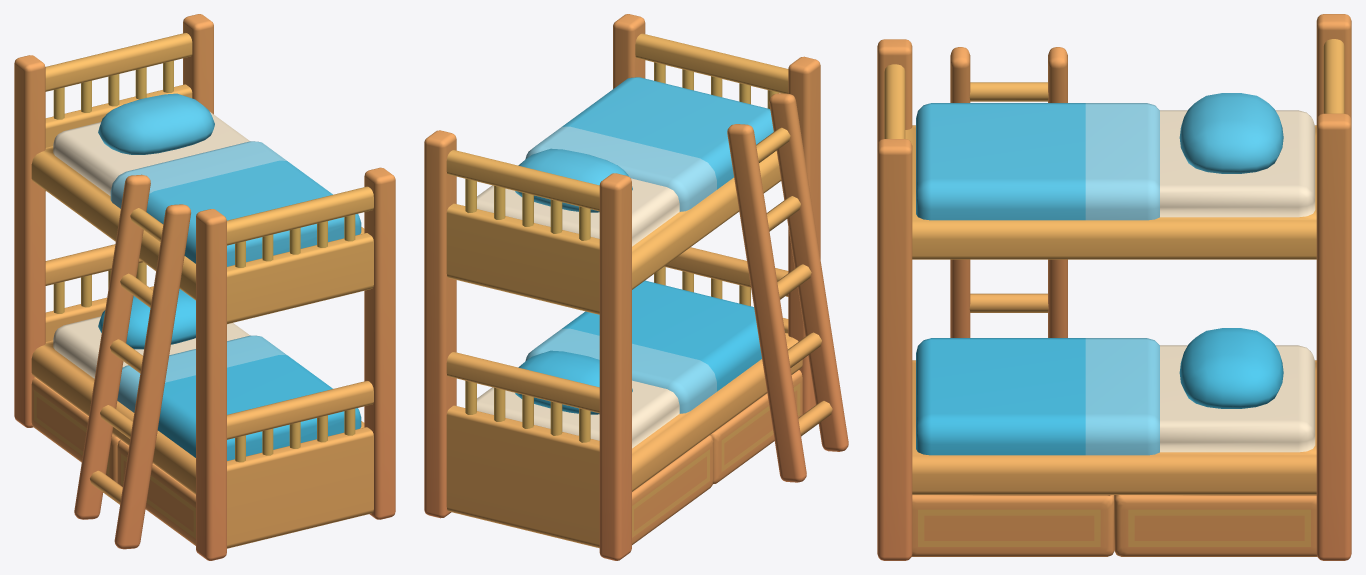
Rendered from Bed_18.glb.
3 renders of one model, left to right at view 1: azimuth 30°, elevation 25°; view 2: azimuth 150°, elevation 25°; view 3: azimuth 270°, elevation 25°, orthographic. The views are drawn at different scales.
Visible parts, largest first — view 1: Bed_18; view 2: Bed_18; view 3: Bed_18.
Boxes of the visible parts, x1=… form: Bed_18: x1=14, y1=14, x2=395, y2=560; Bed_18: x1=424, y1=14, x2=848, y2=560; Bed_18: x1=877, y1=14, x2=1351, y2=560.
Bounding box in the file's own units: 1.24 × 1.74 × 1.7.
1 material, 1 textured.
